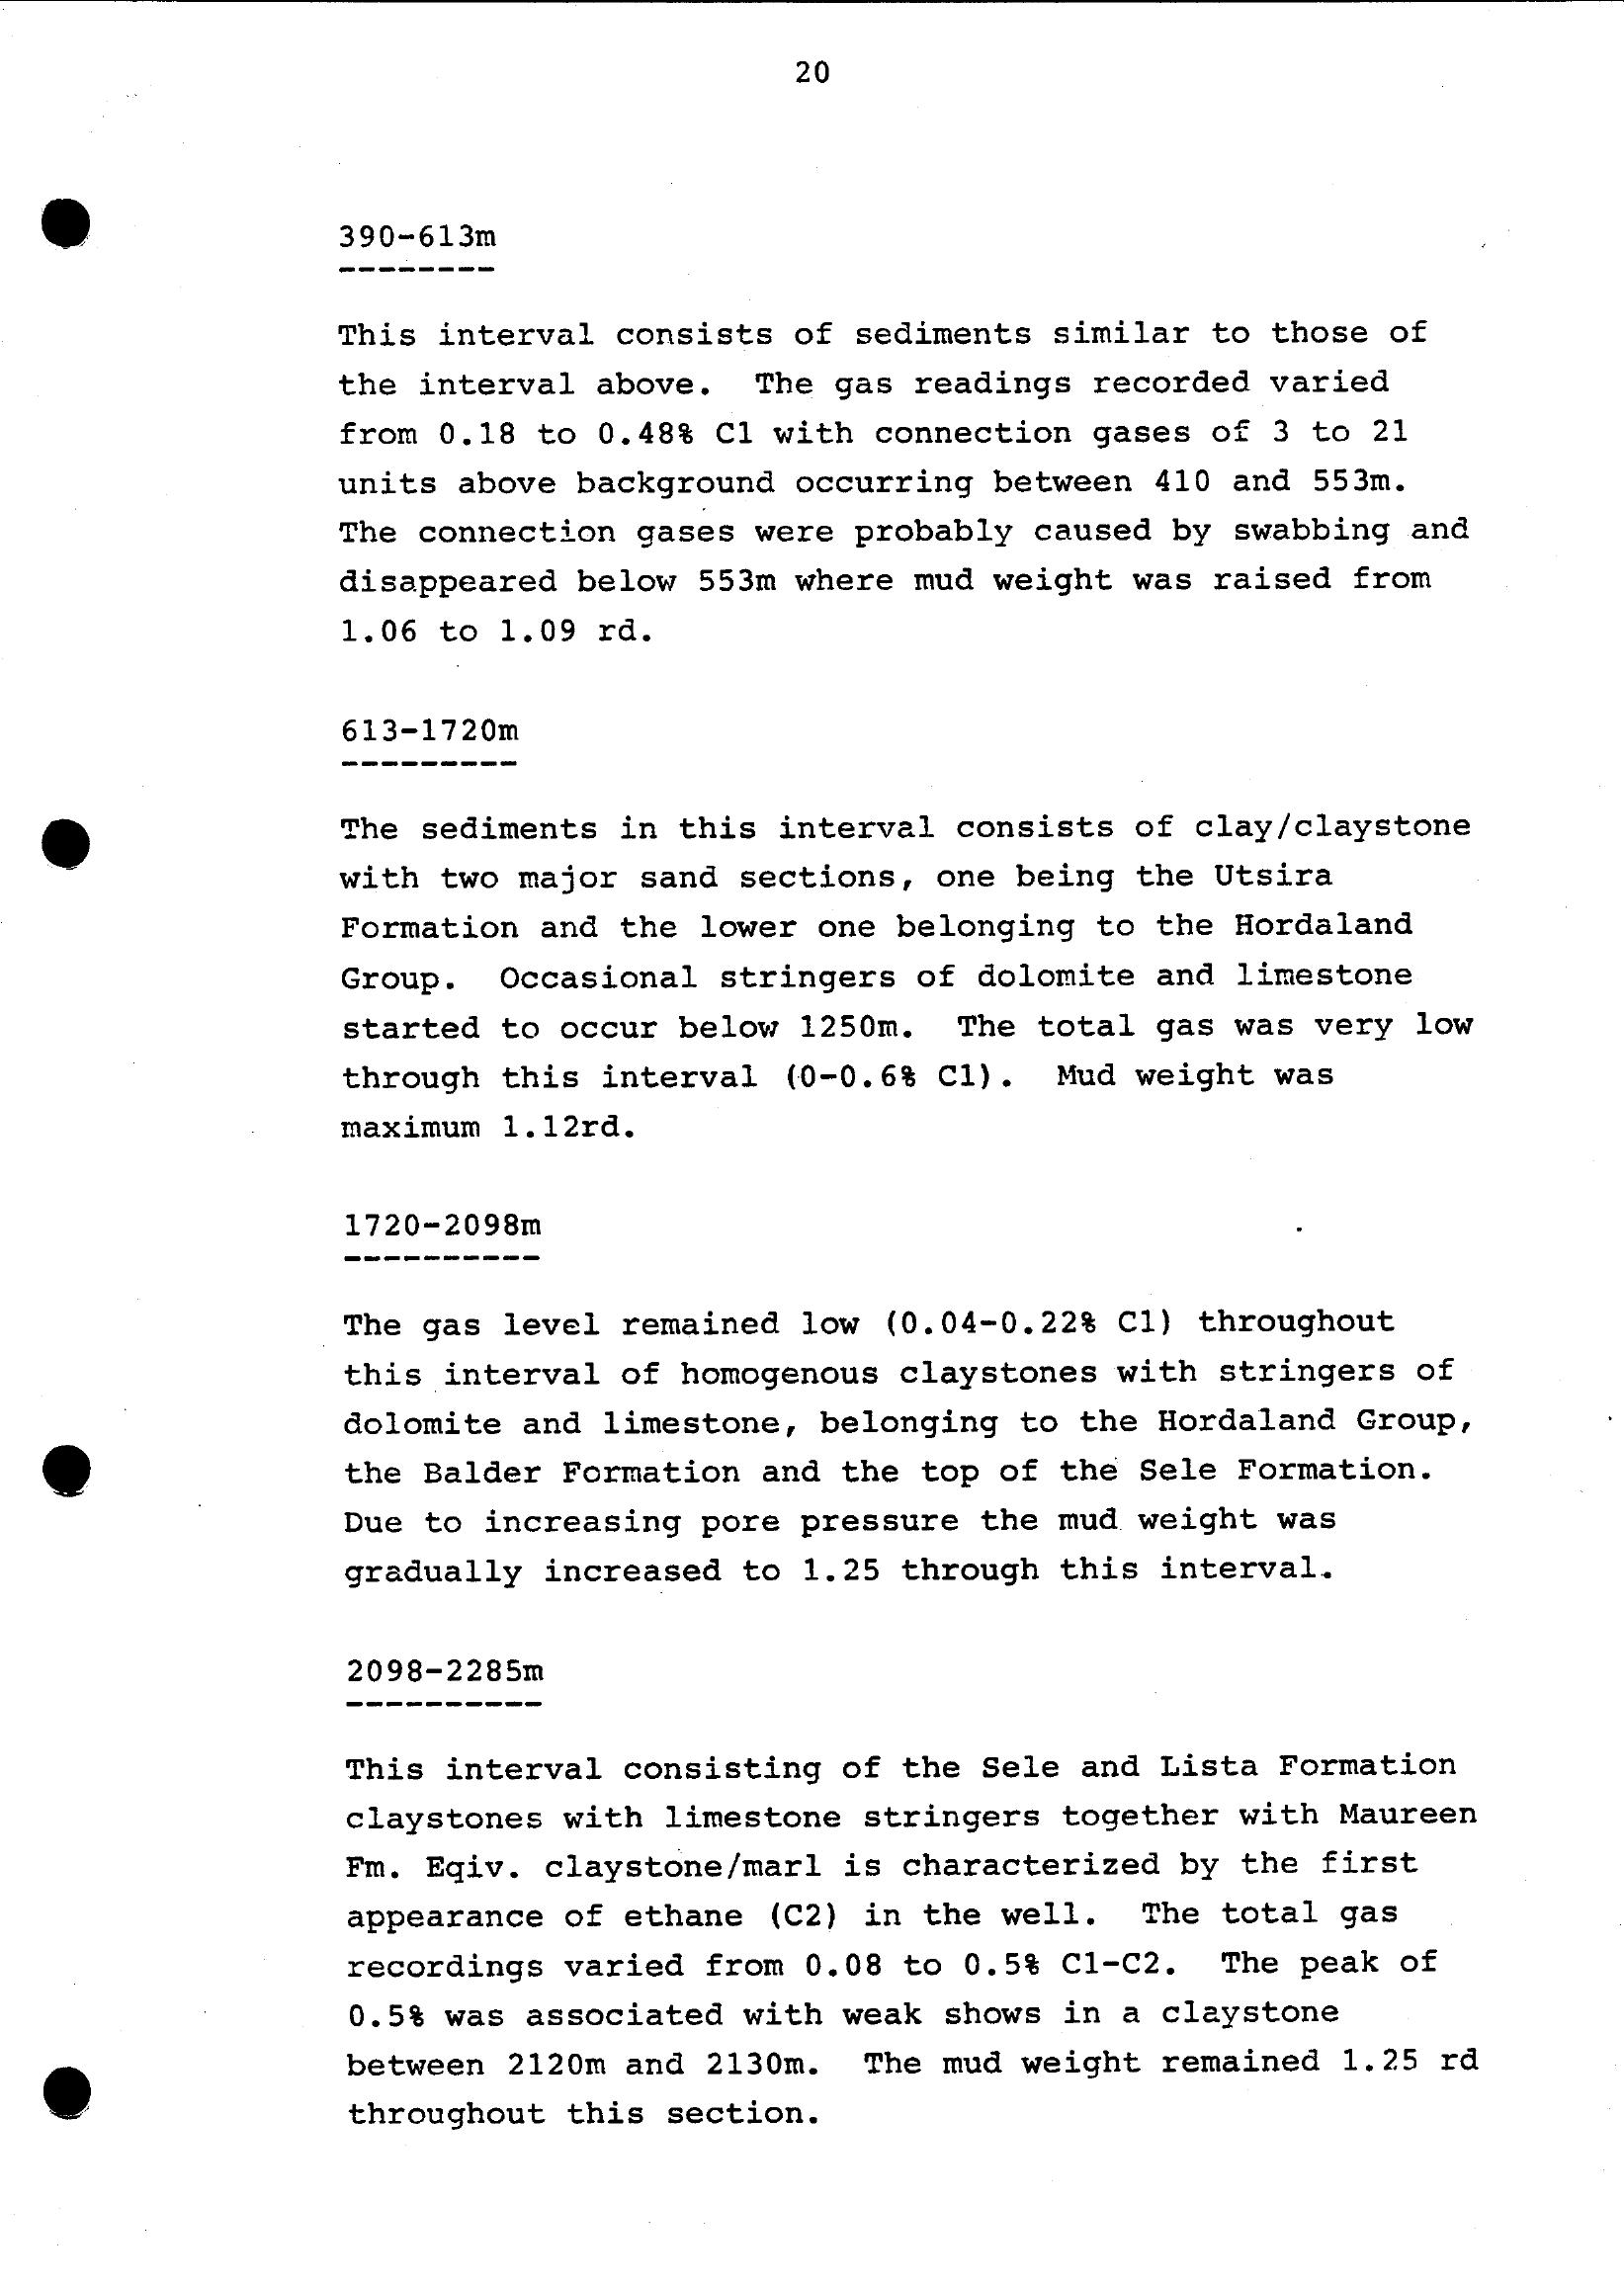text: (278, 183, 1531, 2186)
